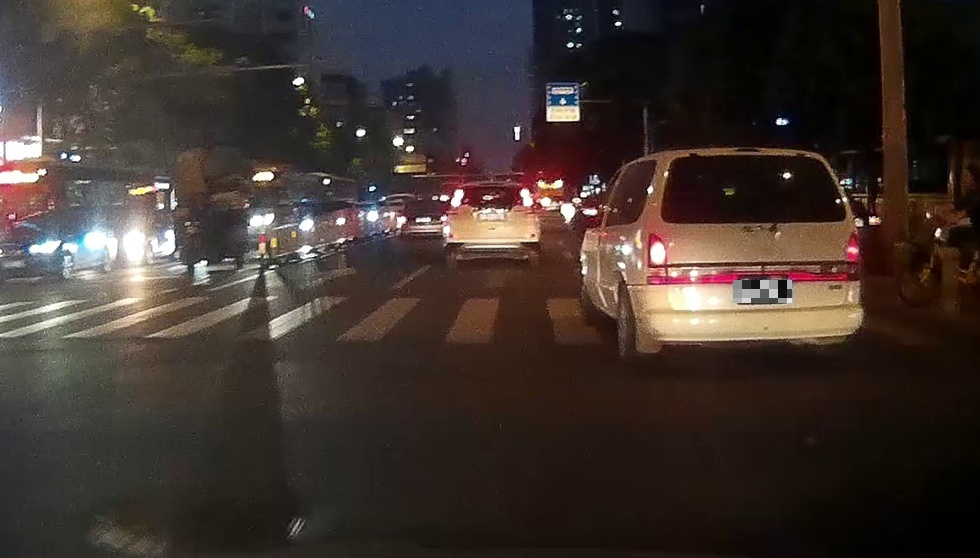L_light: (646, 233, 667, 286), (449, 187, 464, 208)
R_light: (845, 231, 861, 281), (520, 187, 534, 207)
T_light: (735, 148, 760, 155), (479, 182, 505, 185)
night-left: (641, 145, 865, 358)
night-no: (443, 181, 540, 266)
plate_1: (733, 280, 792, 303)
